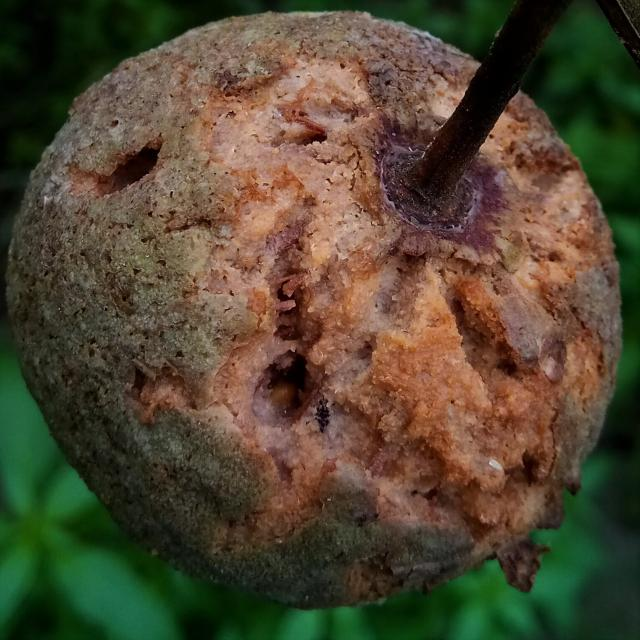Phytopthora: (8, 12, 621, 608)
